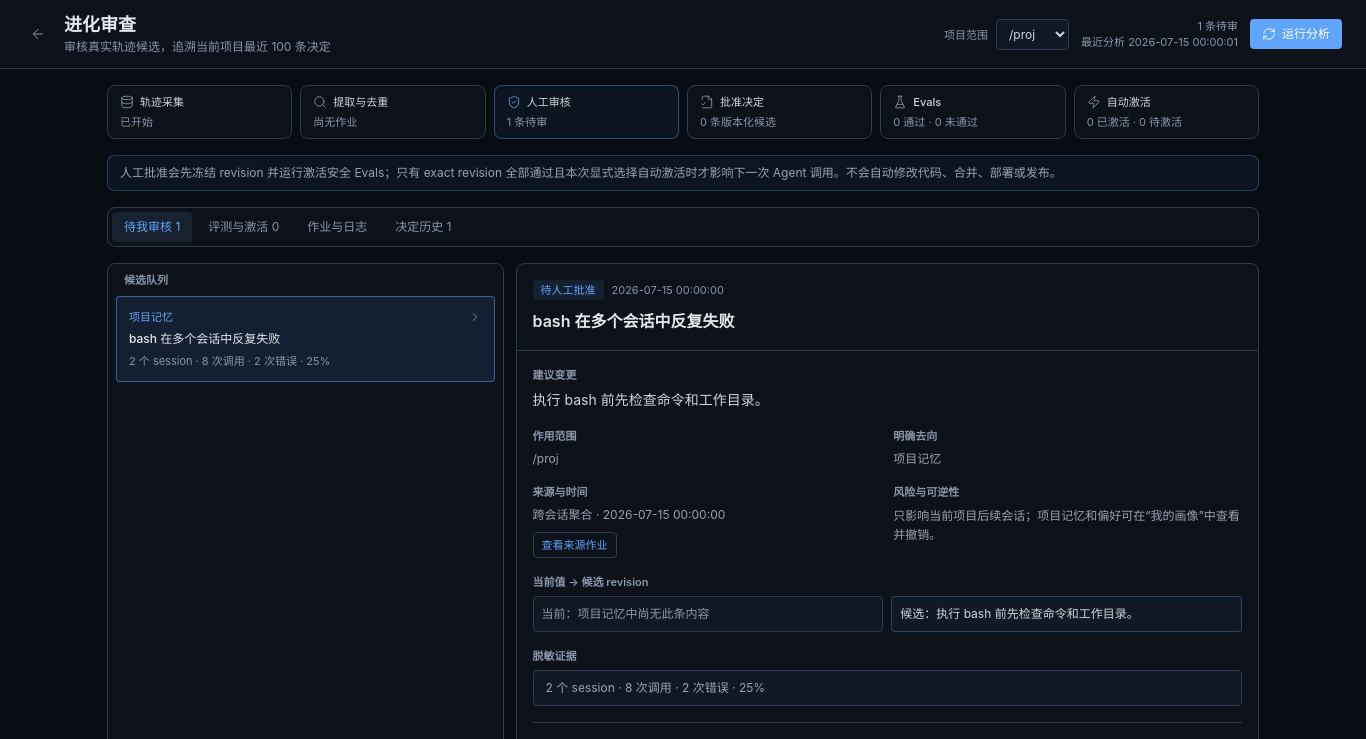
Test: EvolutionWorkbenchPage › keeps an exact decision log link even when the job is outside the recent list
The width and height of the screenshot is (1366, 739).
Step 1. Click the tab "决定历史 1" → coordinates (423, 227), box [383,212,464,242]
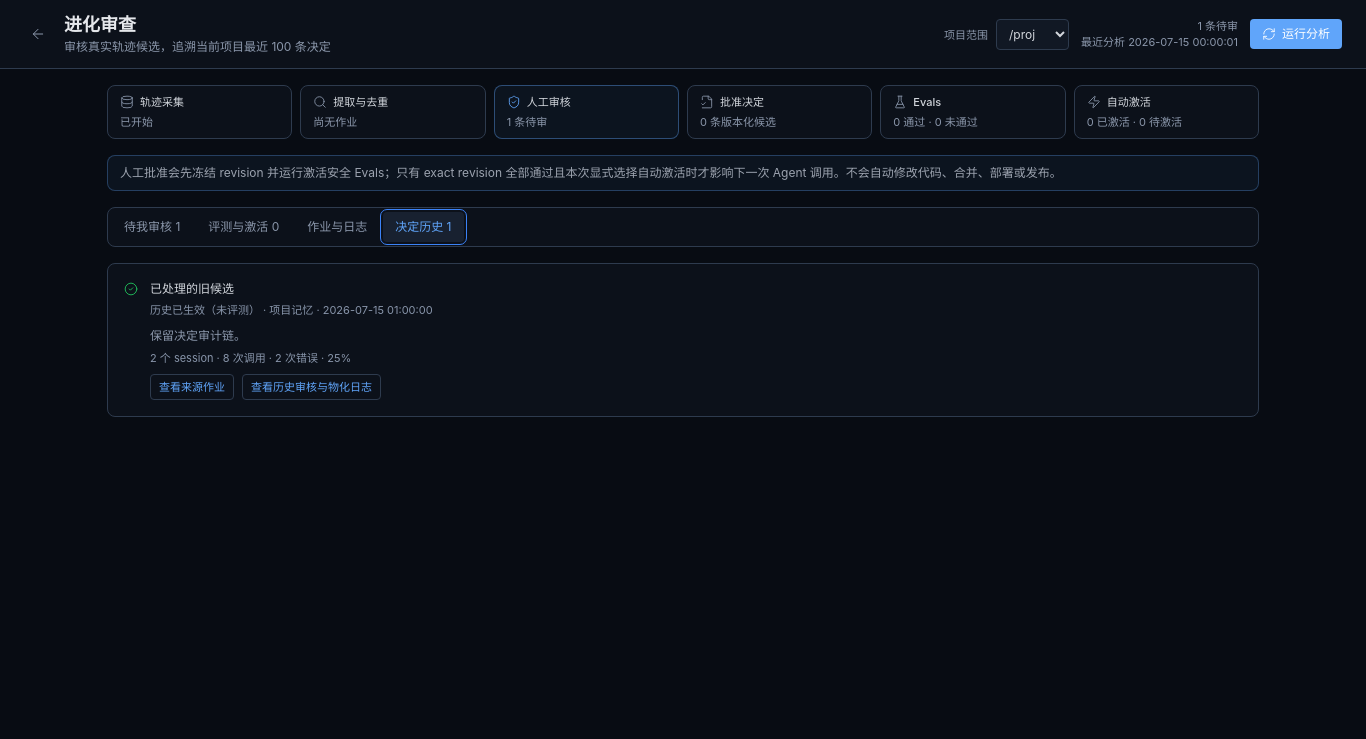
Expected: the text "已处理的旧候选" is shown, [150,281,234,296]
Expected: the button "查看历史审核与物化日志" is shown, [242,374,381,400]
